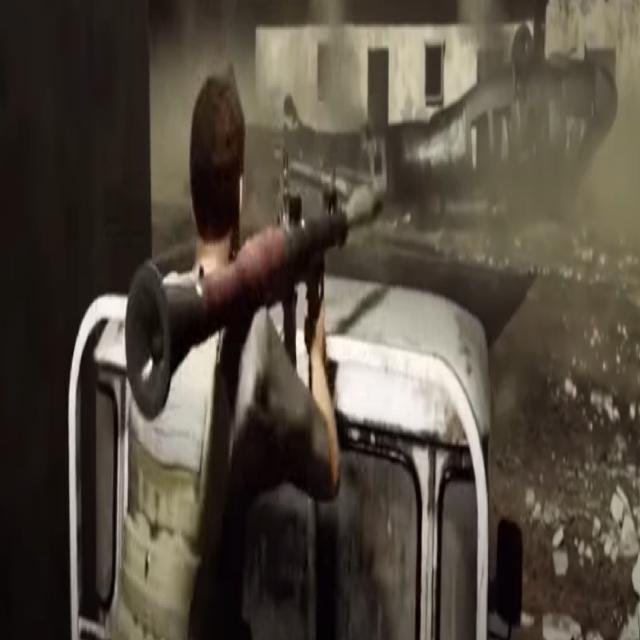bazooka: (109, 143, 385, 459)
